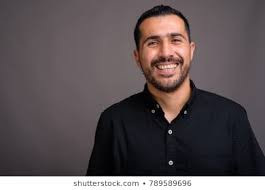middle_eastern_male: (138, 1, 197, 91)
